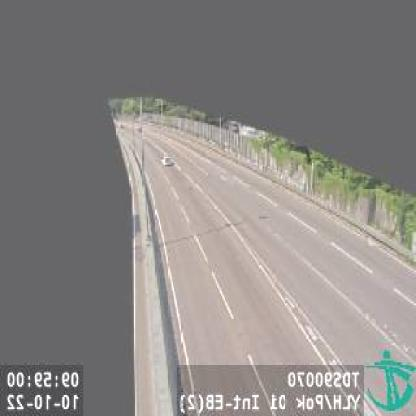Car: (162, 153, 174, 168)
